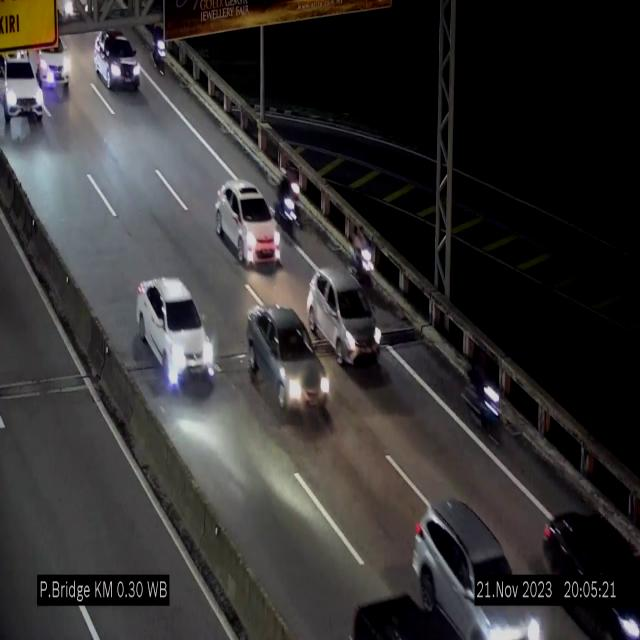Car: (247, 306, 331, 420), (136, 278, 215, 388), (307, 268, 383, 364), (216, 180, 280, 266), (95, 32, 140, 90)
Motorcycle: (464, 347, 504, 449), (275, 170, 301, 238), (350, 224, 375, 284), (152, 20, 168, 81)
